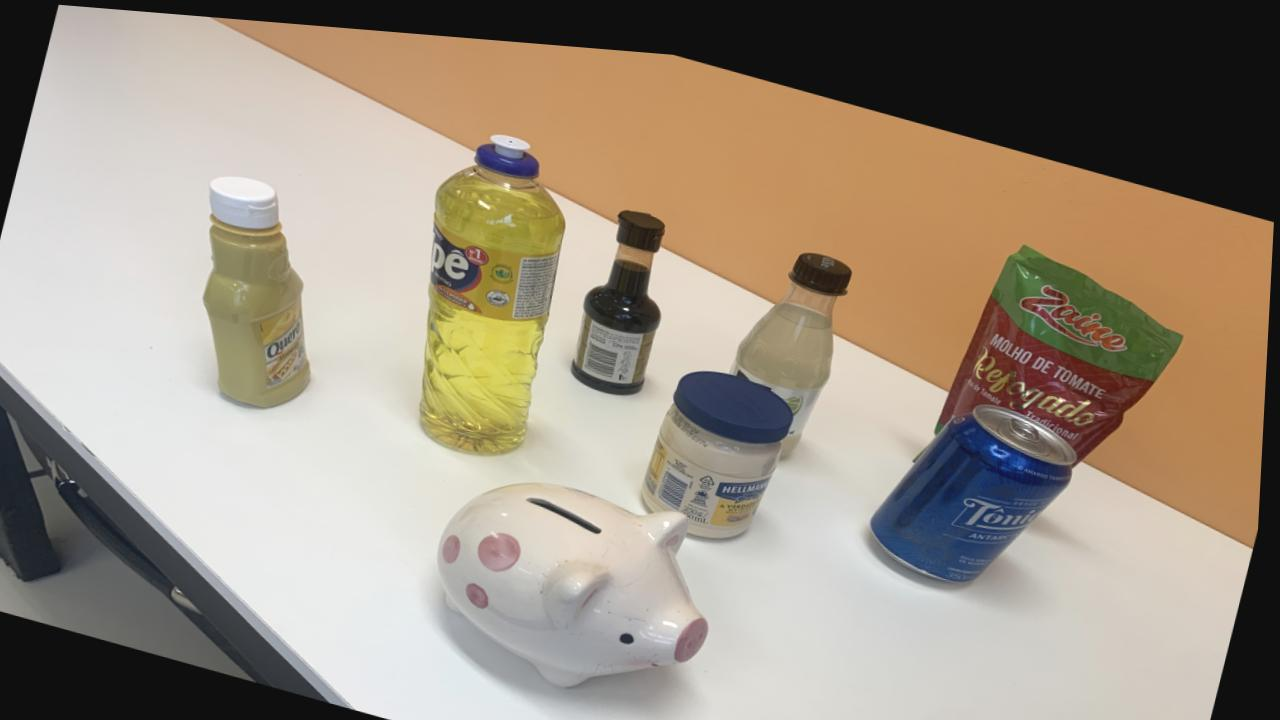Detergent-Cleanup_Items: (423, 125, 567, 445)
English_Sauce-Pantry_Items: (574, 199, 666, 384)
Mayonnaise-Pantry_Items: (646, 358, 796, 525)
Mustard-Pantry_Items: (205, 172, 314, 403)
Pig_Safe-Miscellaneous: (443, 473, 714, 677)
Soda-Drinks: (734, 238, 854, 443)
Tomato_Sauce-Pantry_Items: (939, 227, 1183, 441)
Tonic-Drinks: (875, 387, 1080, 565)
